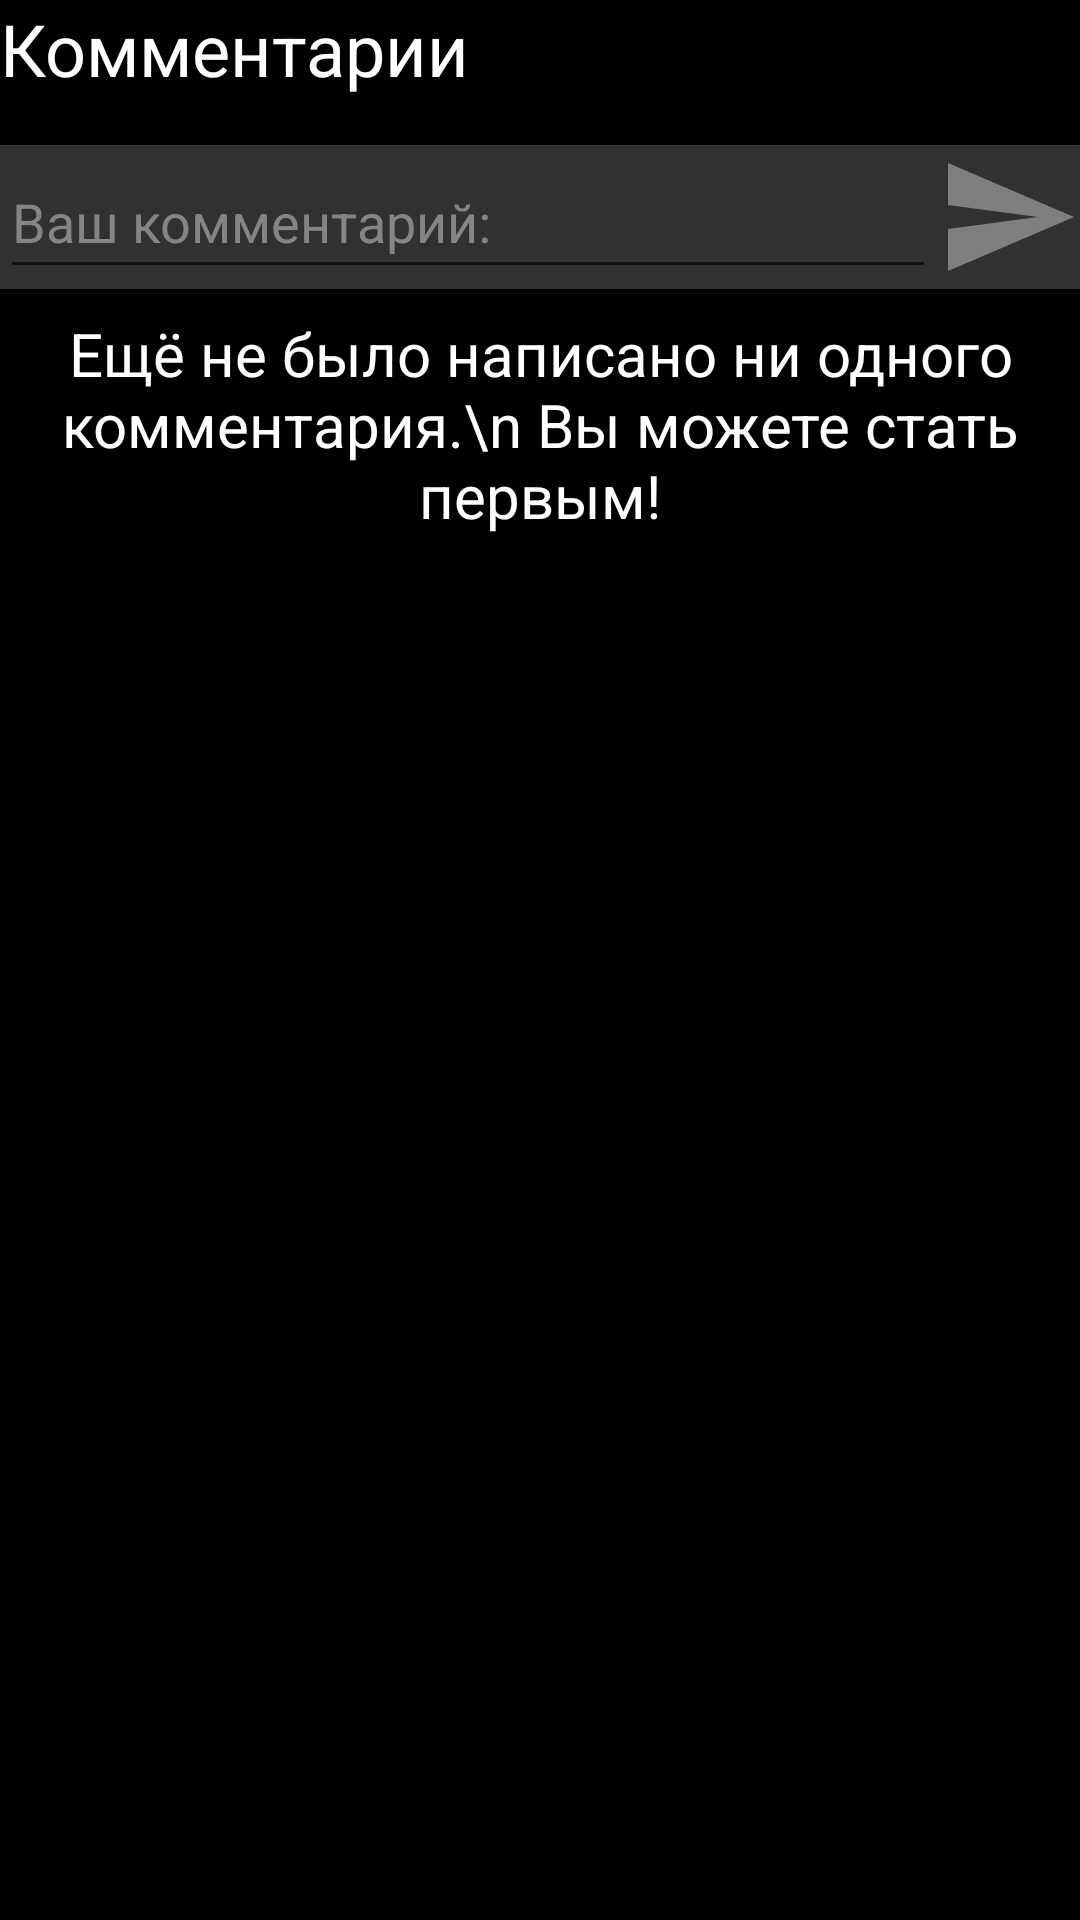

Named icons in this screenshot (1080w x 1920h) and their bounding boxes, {"x1": x1, "y1": y1, "x2": x2, "y2": y2}:
send comment: {"x1": 948, "y1": 163, "x2": 1073, "y2": 271}
